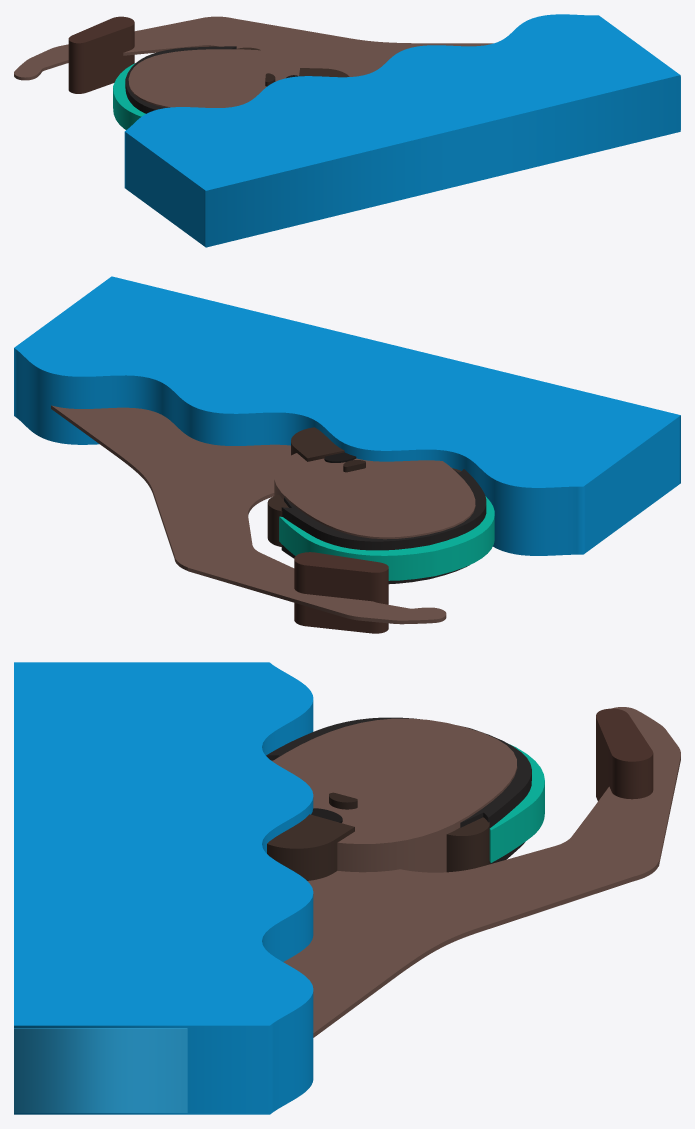
File: emoji_u1f3ca_1f3ff_200d_2642.glb
3 views of the same model, one above another, from view 1: azimuth 30°, elevation 25°; view 2: azimuth 150°, elevation 25°; view 3: azimuth 270°, elevation 25° (orthographic). The views are drawn at different scales.
Visible parts, largest first — view 1: emoji_u1f3ca_1f3ff_200d_2642; view 2: emoji_u1f3ca_1f3ff_200d_2642; view 3: emoji_u1f3ca_1f3ff_200d_2642.
Boxes of the visible parts, bbox=[...] form: emoji_u1f3ca_1f3ff_200d_2642: bbox=[14, 14, 680, 247]; emoji_u1f3ca_1f3ff_200d_2642: bbox=[14, 276, 680, 633]; emoji_u1f3ca_1f3ff_200d_2642: bbox=[14, 662, 680, 1114].
Bounding box in the file's own units: 0.0333 × 0.0038 × 0.0258.
